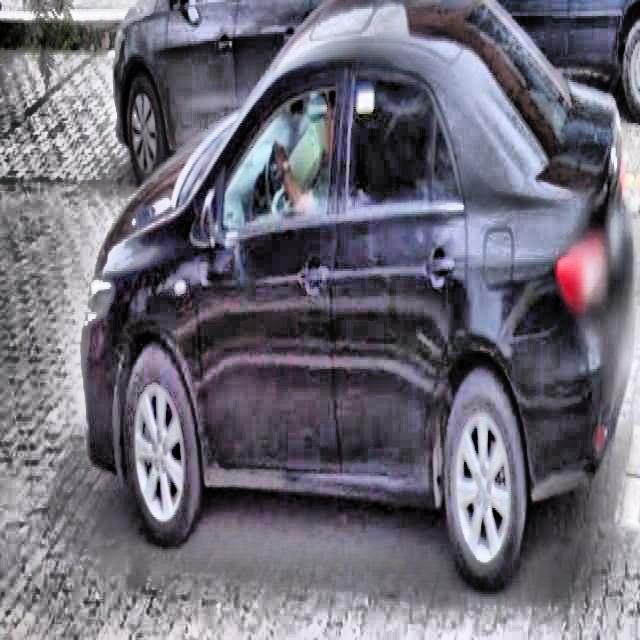carro: (77, 0, 640, 613)
